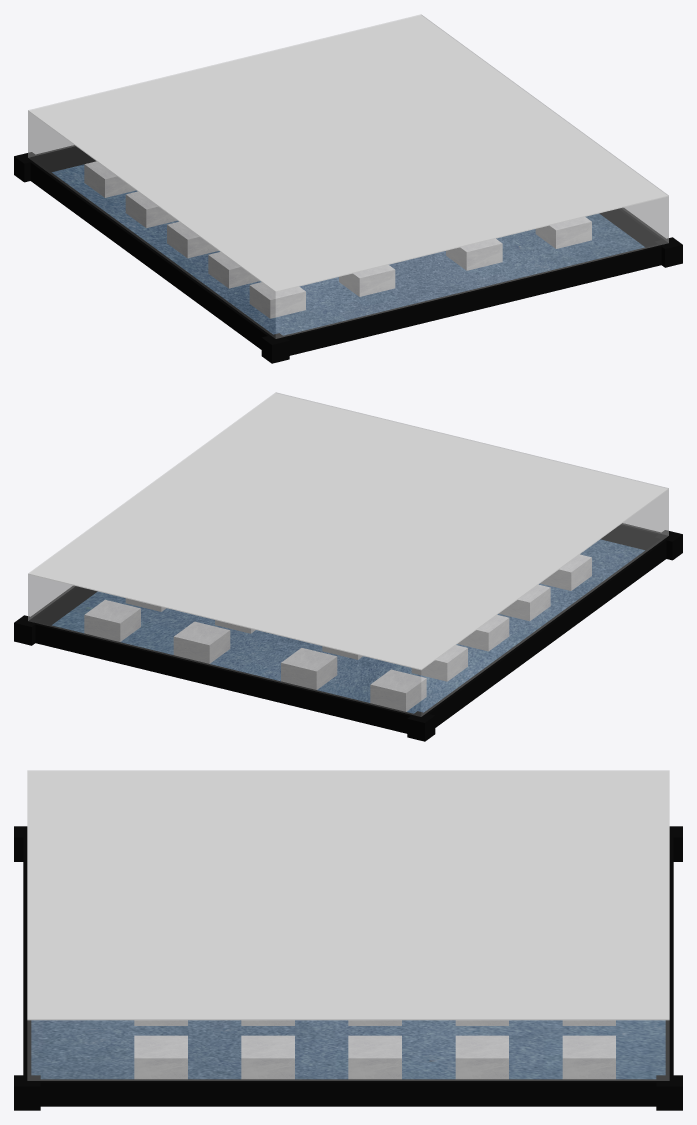
File: room.glb
3 renders of one model, top to bottom at view 1: azimuth 30°, elevation 25°; view 2: azimuth 150°, elevation 25°; view 3: azimuth 270°, elevation 25°, orthographic. The views are drawn at different scales.
Visible parts, largest first — view 1: Plane.005, Plane.001, Plane, Plane.003, Cube.021, Cube.023, Plane.002, Cube, Plane.004, Cube.009, Cube.014, Cube.015 (+8 smaller); view 2: Plane.005, Plane.002, Plane, Plane.003, Cube.020, Cube.023, Cube.013, Cube.001, Cube.016, Cube.008, Plane.001, Plane.004 (+8 smaller); view 3: Plane.005, Plane.004, Plane, Cube.022, Cube.015, Cube.016, Cube.017, Cube.018, Cube.019, Cube.021, Cube.020, Cube.024 (+2 smaller).
Part boxes in pixels (x1=…): Plane.005: x1=28, y1=15, x2=668, y2=291; Plane.001: x1=276, y1=196, x2=668, y2=338; Plane: x1=52, y1=164, x2=644, y2=335; Plane.003: x1=28, y1=110, x2=275, y2=338; Cube.021: x1=276, y1=243, x2=669, y2=355; Cube.023: x1=27, y1=158, x2=277, y2=349; Plane.002: x1=28, y1=14, x2=420, y2=157; Cube: x1=249, y1=282, x2=305, y2=318; Plane.004: x1=422, y1=15, x2=668, y2=242; Cube.009: x1=339, y1=265, x2=395, y2=296; Cube.014: x1=446, y1=238, x2=502, y2=270; Cube.015: x1=535, y1=217, x2=591, y2=248; Plane.005: x1=28, y1=393, x2=668, y2=669; Plane.002: x1=28, y1=574, x2=420, y2=716; Plane: x1=52, y1=539, x2=644, y2=713; Plane.003: x1=421, y1=488, x2=668, y2=716; Cube.020: x1=27, y1=621, x2=420, y2=733; Cube.023: x1=419, y1=539, x2=666, y2=727; Cube.013: x1=173, y1=621, x2=230, y2=663; Cube.001: x1=370, y1=669, x2=426, y2=711; Cube.016: x1=84, y1=600, x2=140, y2=641; Cube.008: x1=281, y1=648, x2=337, y2=689; Plane.001: x1=276, y1=392, x2=668, y2=535; Plane.004: x1=28, y1=393, x2=274, y2=620; Plane.005: x1=27, y1=771, x2=669, y2=1020; Plane.004: x1=27, y1=1019, x2=669, y2=1080; Plane: x1=31, y1=1020, x2=665, y2=1079; Cube.022: x1=27, y1=1079, x2=669, y2=1106; Cube.015: x1=134, y1=1035, x2=187, y2=1079; Cube.016: x1=562, y1=1035, x2=615, y2=1079; Cube.017: x1=455, y1=1035, x2=508, y2=1079; Cube.018: x1=348, y1=1035, x2=401, y2=1079; Cube.019: x1=241, y1=1035, x2=294, y2=1079; Cube.021: x1=23, y1=832, x2=31, y2=1080; Cube.020: x1=665, y1=832, x2=673, y2=1080; Cube.024: x1=656, y1=1075, x2=682, y2=1110.
Bounding box in the file's own units: 46 × 7.1 × 50.
33 materials, 21 textured.
